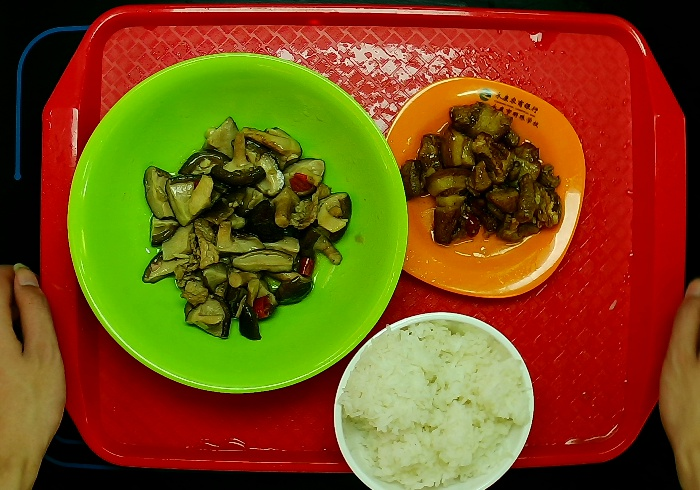YKMZ-Fan_Wan: (329, 309, 537, 490)
YKMZ-Ju_Se_Fang_Die: (379, 75, 588, 302)
YKMZ-Lv_Se_Tang_Wan: (66, 50, 411, 400)
